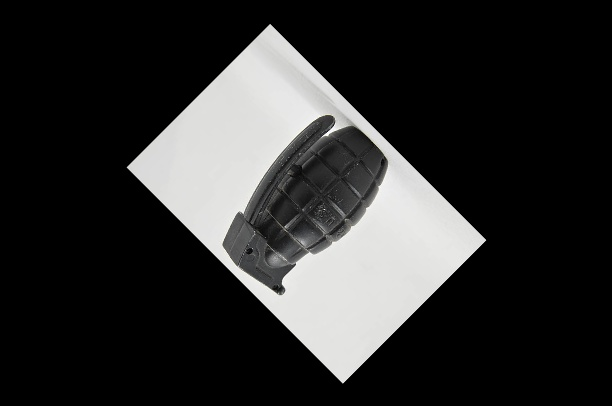e1: (223, 112, 390, 298)
